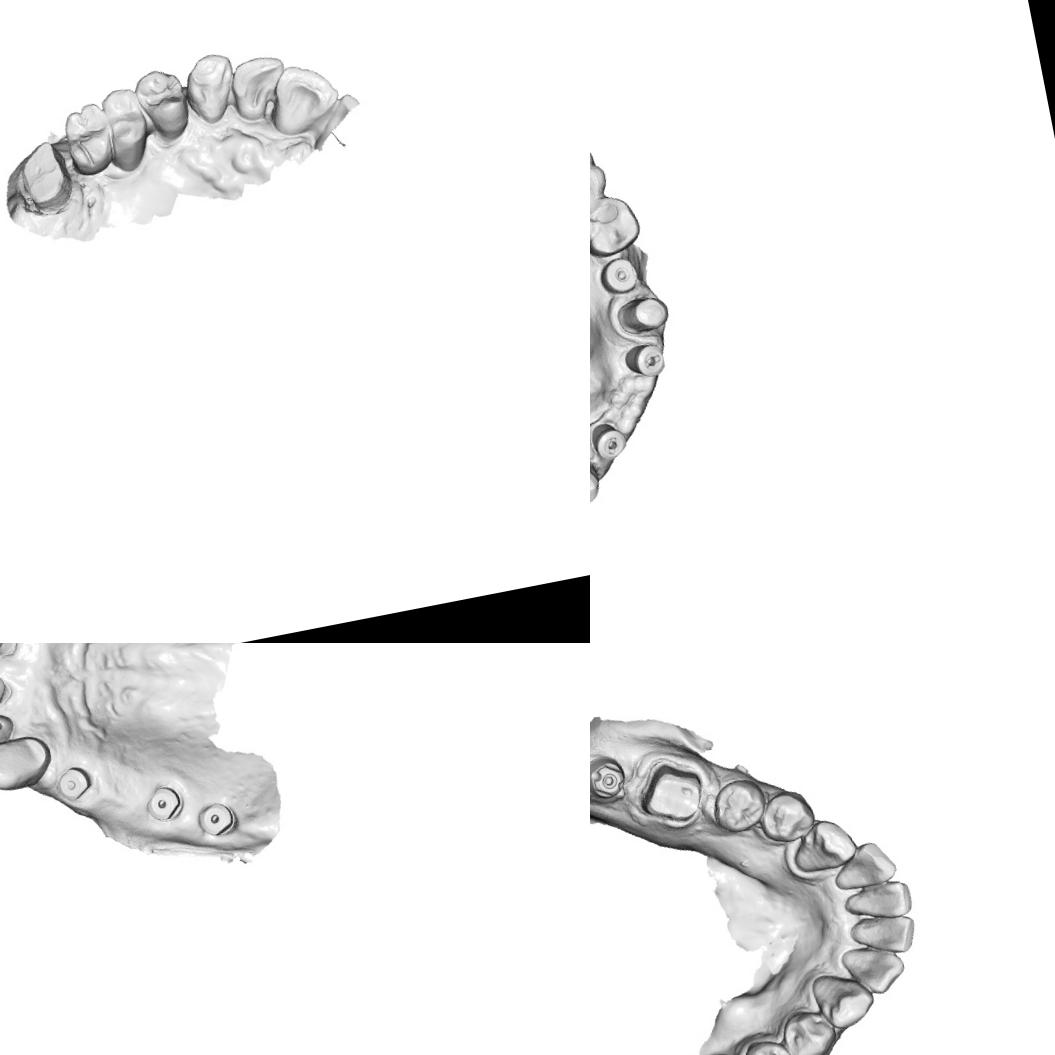canine: (176, 47, 244, 129), (808, 965, 879, 1034), (786, 812, 860, 876), (0, 730, 55, 797)
crown: (10, 135, 78, 216), (614, 292, 673, 337), (590, 448, 603, 508)
implant: (590, 750, 630, 805), (596, 253, 641, 297), (194, 796, 239, 840), (141, 781, 186, 825), (52, 763, 94, 805)
implant_minus: (620, 338, 668, 382), (590, 416, 630, 462)
incisor: (260, 55, 346, 140), (225, 50, 294, 124), (837, 938, 910, 1001), (846, 907, 920, 962), (827, 836, 899, 892), (839, 876, 916, 926), (0, 702, 20, 762)
molar: (57, 98, 118, 180), (590, 190, 644, 261), (590, 135, 613, 224)
premolar: (94, 82, 158, 176), (130, 61, 196, 147), (706, 772, 770, 836), (754, 784, 819, 846), (777, 1003, 840, 1055), (738, 1033, 801, 1055)
